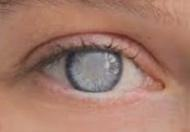eye: (65, 47, 124, 93)
